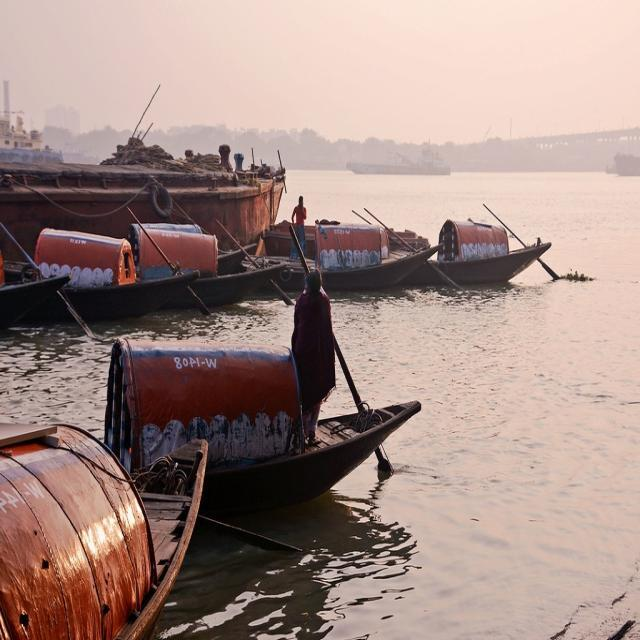boat: (77, 323, 433, 497)
